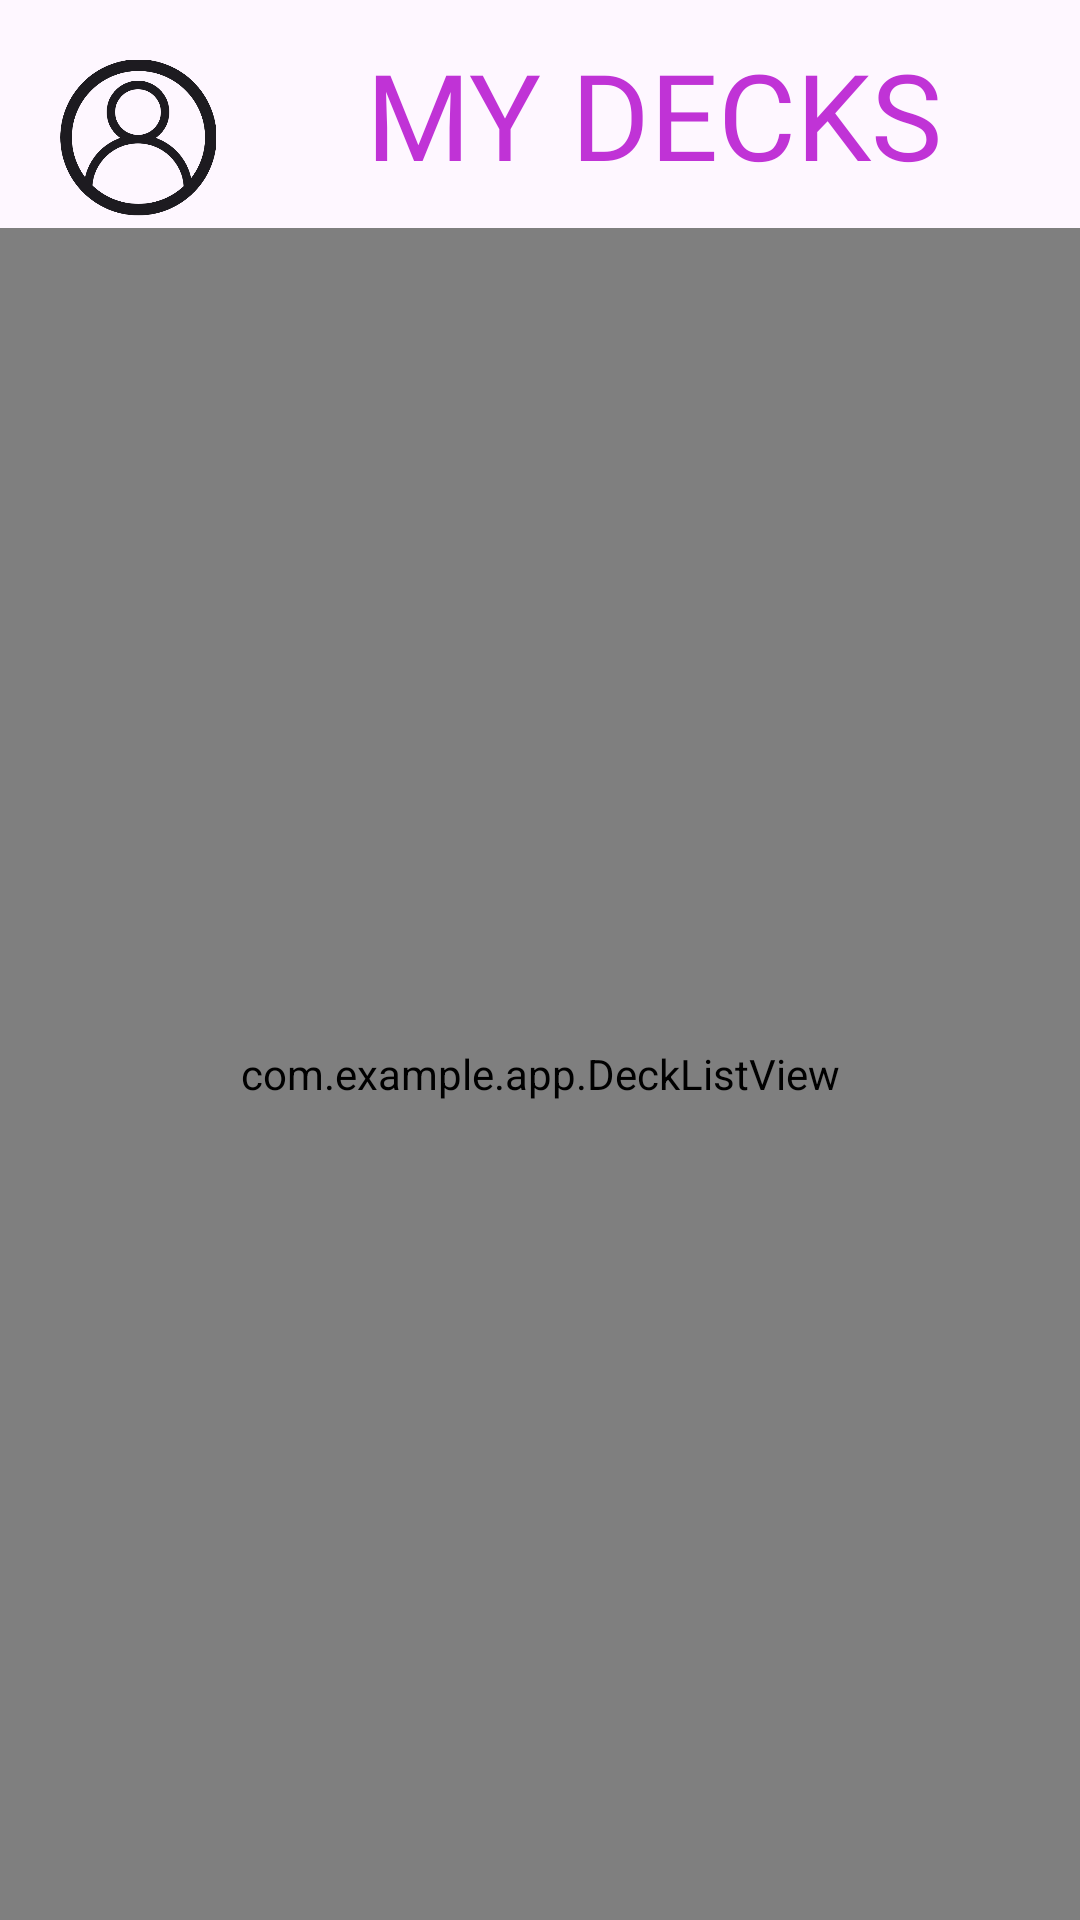

Screen size 1080w x 1920h. Icon name, then its box in pixels as (x1, y1, x2, y2):
Account icon: (60, 60, 216, 216)
